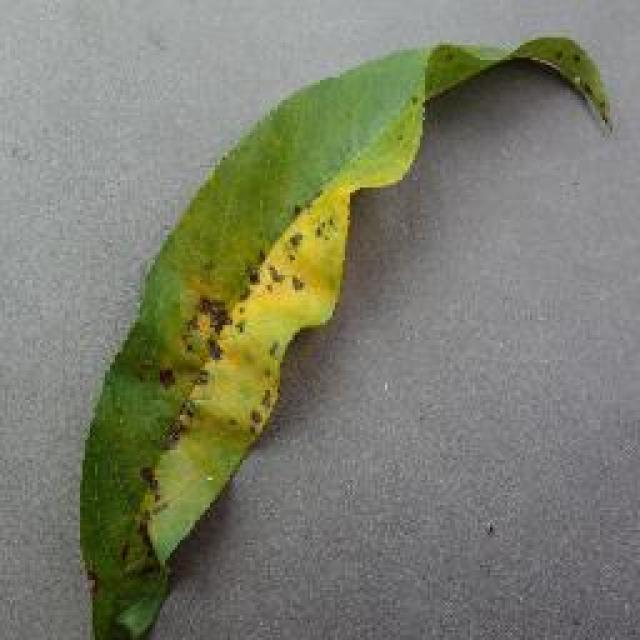Peach_Bacterial_Spot: (130, 223, 332, 435)
